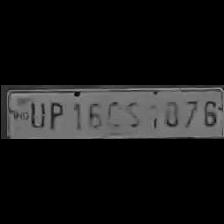0: (160, 97, 180, 128)
1: (66, 98, 82, 132)
2: (122, 98, 142, 130)
6: (82, 99, 104, 131), (198, 97, 220, 128)
7: (180, 96, 198, 130)
C: (104, 98, 122, 130)
P: (44, 98, 64, 132)
U: (26, 100, 44, 130)
